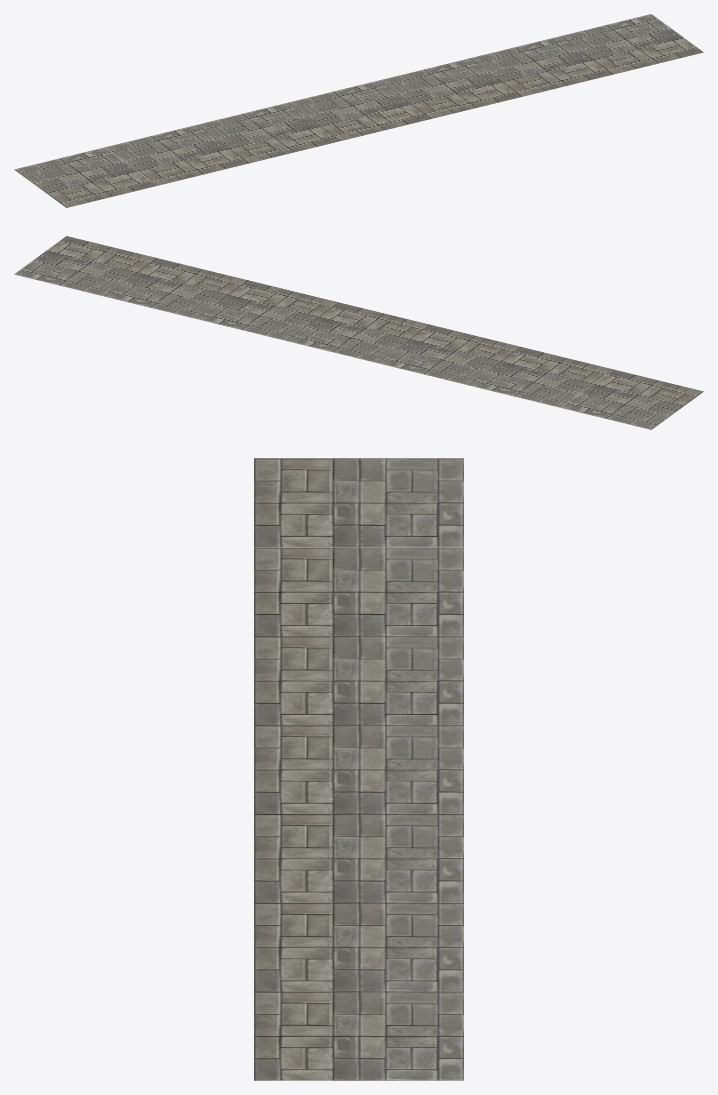
The model's file is ground.glb.
3 renders of one model, top to bottom at view 1: azimuth 30°, elevation 25°; view 2: azimuth 150°, elevation 25°; view 3: azimuth 270°, elevation 25°, orthographic. The views are drawn at different scales.
Visible parts, largest first — view 1: Chao.002, Chao.005, Chao.003, Chao.004, Chao.001, Chao.006, Chao; view 2: Chao.002, Chao.005, Chao.003, Chao.004, Chao.001, Chao.006, Chao; view 3: Chao.006, Chao.005, Chao.004, Chao, Chao.003, Chao.002, Chao.001.
Boxes of the visible parts, box(x1,y1,x2,y2) form: Chao.002: box(287, 80, 430, 140); Chao.005: box(105, 125, 248, 185); Chao.003: box(379, 58, 521, 118); Chao.004: box(197, 103, 339, 163); Chao.001: box(470, 36, 612, 96); Chao.006: box(14, 147, 156, 207); Chao: box(561, 14, 703, 74); Chao.002: box(287, 302, 430, 362); Chao.005: box(469, 347, 612, 407); Chao.003: box(196, 280, 338, 340); Chao.004: box(378, 325, 520, 385); Chao.001: box(105, 258, 247, 318); Chao.006: box(561, 369, 703, 429); Chao: box(14, 236, 156, 296); Chao.006: box(254, 458, 463, 547); Chao.005: box(254, 547, 463, 636); Chao.004: box(254, 636, 463, 725); Chao: box(254, 991, 463, 1080); Chao.003: box(254, 814, 463, 902); Chao.002: box(254, 725, 463, 813); Chao.001: box(254, 903, 463, 991).
Size of the model in its own units: 1401 by 0 by 200.
1 material, 1 textured.
